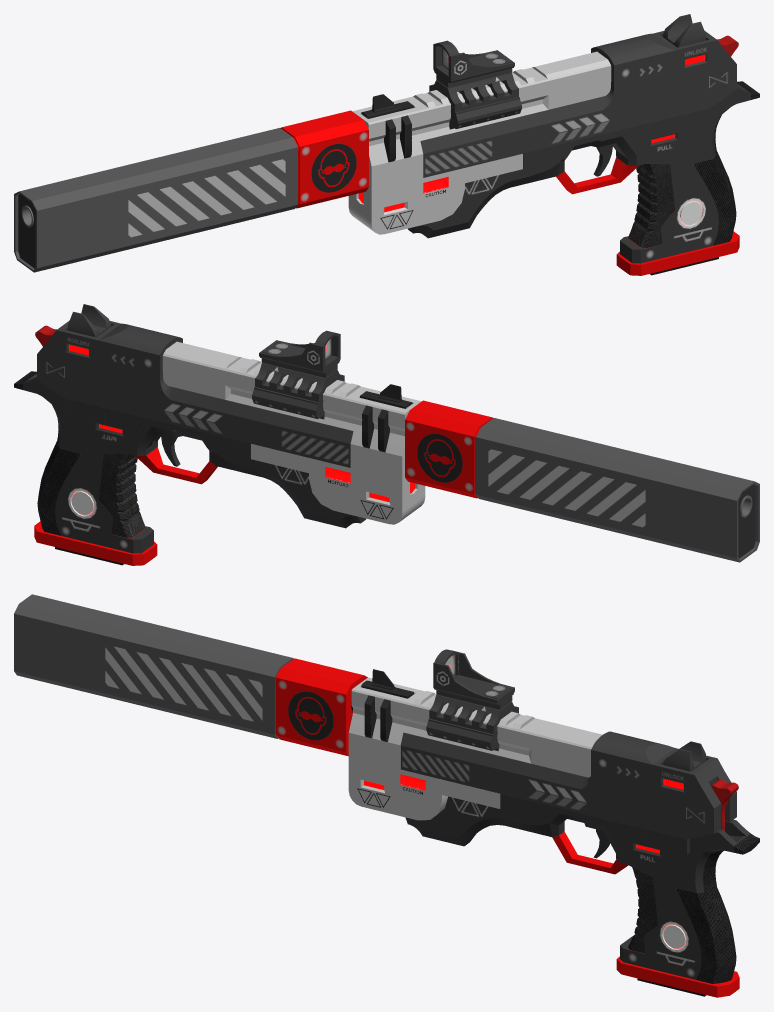
Rendered from WPN1_HG_DIGEL.fbx.
The picture shows the model from 3 angles, top to bottom: view 1: azimuth 30°, elevation 25°; view 2: azimuth 150°, elevation 25°; view 3: azimuth 330°, elevation 25°; orthographic projection.
Visible parts, largest first — view 1: WPN1_HG_DIGEL_supressor, WPN1_HG_DIGEL_slide, WPN1_HG_DIGEL_barrel, WPN1_HG_DIGEL_etcOne, WPN1_HG_DIGEL_etcTwo, WPN1_HG_DIGEL_redDot; view 2: WPN1_HG_DIGEL_supressor, WPN1_HG_DIGEL_slide, WPN1_HG_DIGEL_barrel, WPN1_HG_DIGEL_etcOne, WPN1_HG_DIGEL_etcTwo, WPN1_HG_DIGEL_redDot; view 3: WPN1_HG_DIGEL_supressor, WPN1_HG_DIGEL_slide, WPN1_HG_DIGEL_etcOne, WPN1_HG_DIGEL_barrel, WPN1_HG_DIGEL_etcTwo, WPN1_HG_DIGEL_redDot.
Part boxes in pixels (left/top/right/bottom): WPN1_HG_DIGEL_supressor: left=14, top=110, right=368, bottom=272; WPN1_HG_DIGEL_slide: left=420, top=14, right=736, bottom=177; WPN1_HG_DIGEL_barrel: left=348, top=51, right=611, bottom=234; WPN1_HG_DIGEL_etcOne: left=408, top=83, right=750, bottom=275; WPN1_HG_DIGEL_etcTwo: left=593, top=35, right=759, bottom=247; WPN1_HG_DIGEL_redDot: left=429, top=40, right=521, bottom=129; WPN1_HG_DIGEL_supressor: left=405, top=400, right=759, bottom=562; WPN1_HG_DIGEL_slide: left=37, top=304, right=353, bottom=467; WPN1_HG_DIGEL_barrel: left=162, top=341, right=425, bottom=524; WPN1_HG_DIGEL_etcOne: left=23, top=373, right=366, bottom=565; WPN1_HG_DIGEL_etcTwo: left=14, top=325, right=180, bottom=537; WPN1_HG_DIGEL_redDot: left=252, top=330, right=344, bottom=419; WPN1_HG_DIGEL_supressor: left=14, top=594, right=367, bottom=756; WPN1_HG_DIGEL_slide: left=400, top=731, right=736, bottom=839; WPN1_HG_DIGEL_etcOne: left=405, top=794, right=750, bottom=997; WPN1_HG_DIGEL_barrel: left=348, top=669, right=602, bottom=820; WPN1_HG_DIGEL_etcTwo: left=593, top=779, right=759, bottom=983; WPN1_HG_DIGEL_redDot: left=426, top=649, right=518, bottom=751.
Size of the model in its own units: 874 by 317 by 65.56.
